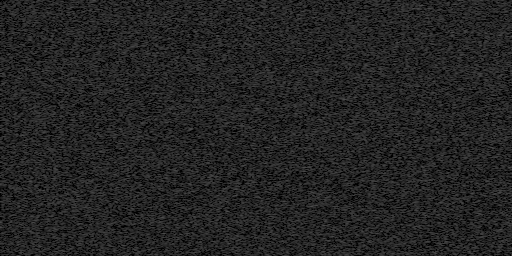wv_am: (429, 0, 435, 256), (354, 132, 359, 227), (354, 60, 359, 131), (354, 0, 359, 38), (354, 47, 359, 59), (354, 246, 359, 256), (354, 232, 359, 239), (354, 39, 359, 46), (354, 240, 359, 244), (354, 228, 359, 231)
wv_cw: (305, 0, 311, 256)
